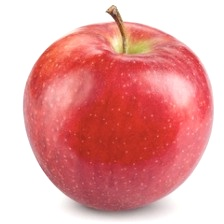apple: (19, 18, 207, 205)
